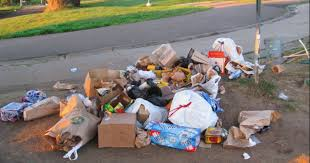garbage: (89, 70, 223, 148), (3, 97, 147, 119), (156, 50, 222, 96), (46, 101, 99, 150), (225, 110, 277, 147), (214, 41, 249, 78)
